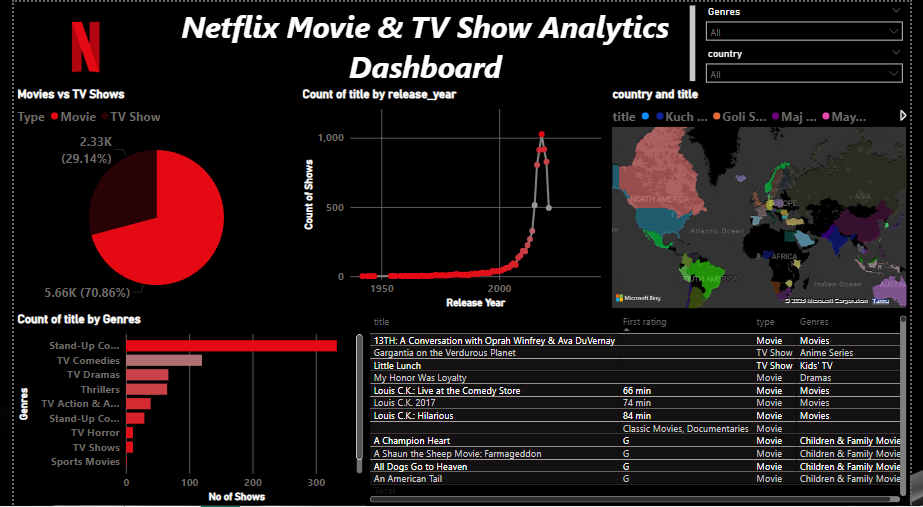

The page's visual inventory and layout, read from the dashboard file:
{"tool":"powerbi","page":{"name":"Page 1","canvas":[1280,720],"ordinal":0},"visuals":[{"type":"pieChart","title":"Movies vs TV Shows","fields":{"Category":["netflix_titles.type"],"Y":["netflix_titles.type"]},"box":[0,121.4,407.1,321.4],"z":0},{"type":"lineChart","fields":{"Category":["netflix_titles.release_year"],"Y":["netflix_titles.title"]},"box":[407.1,121.4,442.9,321.4],"z":1000},{"type":"barChart","fields":{"Y":["netflix_titles.title"],"Category":["netflix_titles.Genres"]},"box":[0,443.5,502.6,276.5],"z":2000},{"type":"filledMap","fields":{"Category":["netflix_titles.country"],"Series":["netflix_titles.title"]},"box":[850,121.4,430,321.4],"z":3000},{"type":"tableEx","fields":{"Values":["netflix_titles.title","netflix_titles.rating","netflix_titles.type","netflix_titles.Genres"]},"box":[502.9,442.9,777.1,277.1],"z":4000},{"type":"slicer","fields":{"Values":["netflix_titles.Genres"]},"box":[979.2,0,301,60.5],"z":5000},{"type":"slicer","fields":{"Values":["netflix_titles.country"]},"box":[979.2,60.5,301,61.9],"z":6000},{"type":"textbox","box":[204.3,0,774.3,121.4],"z":7000},{"type":"image","box":[0,0,204.3,121.4],"z":7001}]}

Visuals, with their boxes in screenshot pixels (x1, y1, x2, y2), scaled from the page's 1280x720 canvas onto the 923x507 screenshot:
"Movies vs TV Shows" pieChart: {"x1": 0, "y1": 85, "x2": 294, "y2": 312}
lineChart - netflix_titles.release_year x netflix_titles.title: {"x1": 294, "y1": 85, "x2": 613, "y2": 312}
barChart - netflix_titles.title x netflix_titles.Genres: {"x1": 0, "y1": 312, "x2": 362, "y2": 506}
filledMap - netflix_titles.country x netflix_titles.title: {"x1": 613, "y1": 85, "x2": 922, "y2": 312}
tableEx - netflix_titles.title x netflix_titles.rating: {"x1": 363, "y1": 312, "x2": 922, "y2": 506}
slicer - netflix_titles.Genres: {"x1": 706, "y1": 0, "x2": 922, "y2": 43}
slicer - netflix_titles.country: {"x1": 706, "y1": 43, "x2": 922, "y2": 86}
textbox: {"x1": 147, "y1": 0, "x2": 706, "y2": 85}
image: {"x1": 0, "y1": 0, "x2": 147, "y2": 85}
